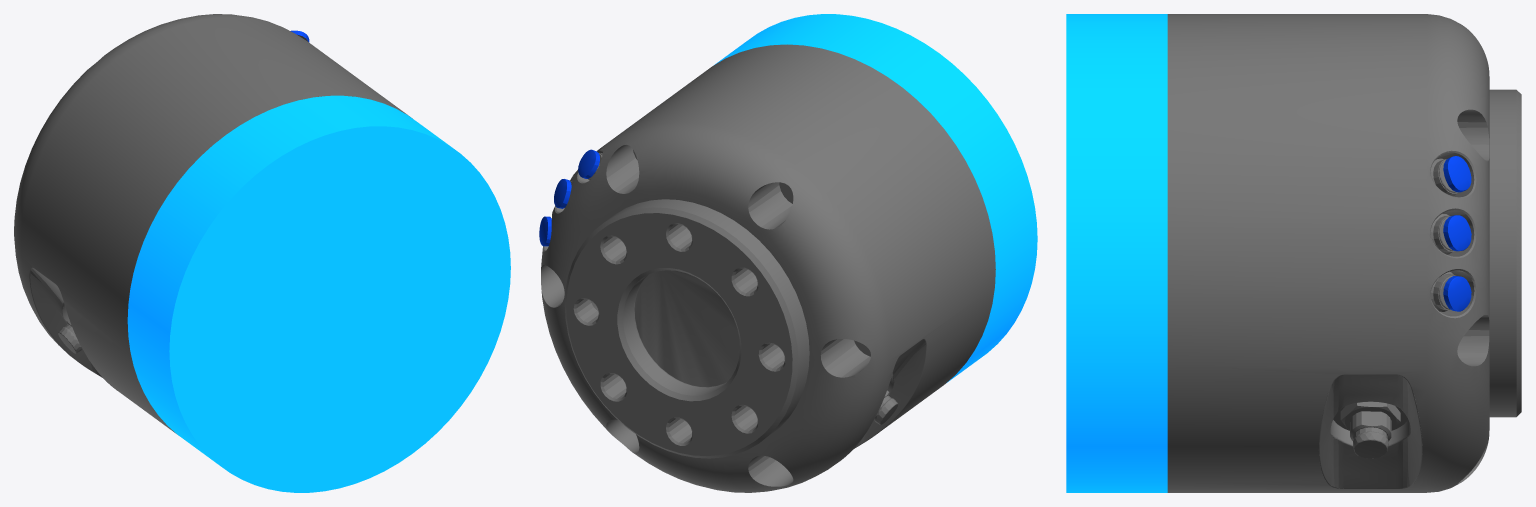
The picture shows the model from 3 angles, left to right: view 1: azimuth 30°, elevation 25°; view 2: azimuth 150°, elevation 25°; view 3: azimuth 270°, elevation 25°; orthographic projection. The views are drawn at different scales.
Parts seen in each view (by area): view 1: Link7_led, Link7_body; view 2: Link7_body, Link7_led, link7_blue_button; view 3: Link7_body, Link7_led, link7_blue_button.
Boxes of the visible parts, bbox=[...] form: Link7_led: bbox=[127, 95, 510, 492]; Link7_body: bbox=[14, 14, 412, 433]; Link7_body: bbox=[541, 44, 995, 492]; Link7_led: bbox=[714, 14, 1037, 382]; link7_blue_button: bbox=[539, 149, 599, 246]; Link7_body: bbox=[1167, 14, 1521, 492]; Link7_led: bbox=[1066, 14, 1167, 492]; link7_blue_button: bbox=[1443, 156, 1471, 311].
Size of the model in its own units: 0.092 by 0.0875 by 0.092.
